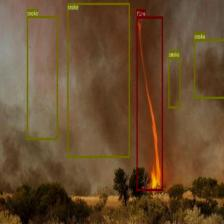fire: (136, 16, 163, 190)
smoke: (67, 2, 130, 158), (26, 15, 58, 140), (193, 38, 224, 98), (168, 57, 180, 108)
